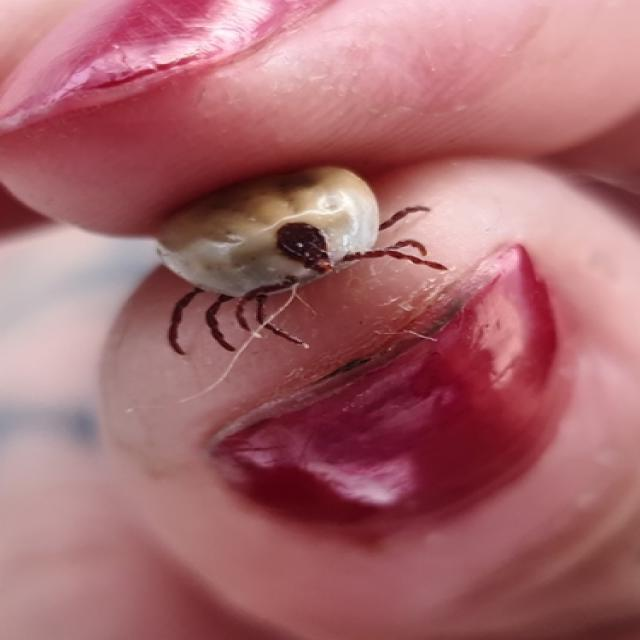Rhipicephalus Sanguineus-F-Fed: (155, 166, 449, 355)
